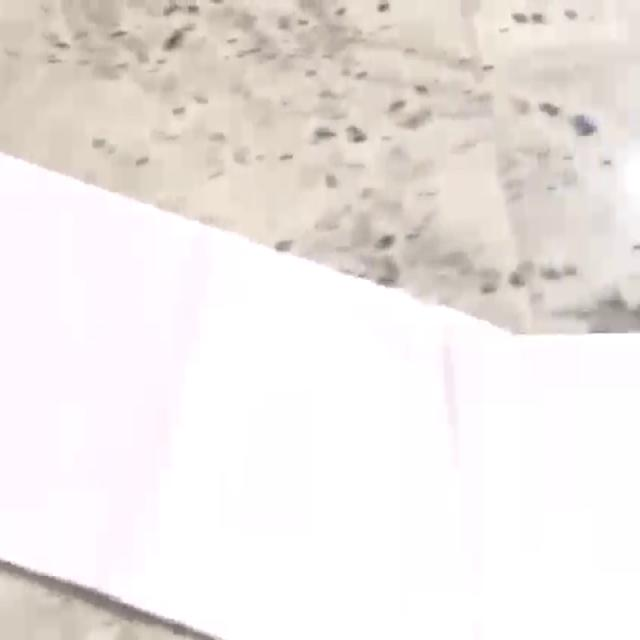road: (0, 152, 640, 640)
